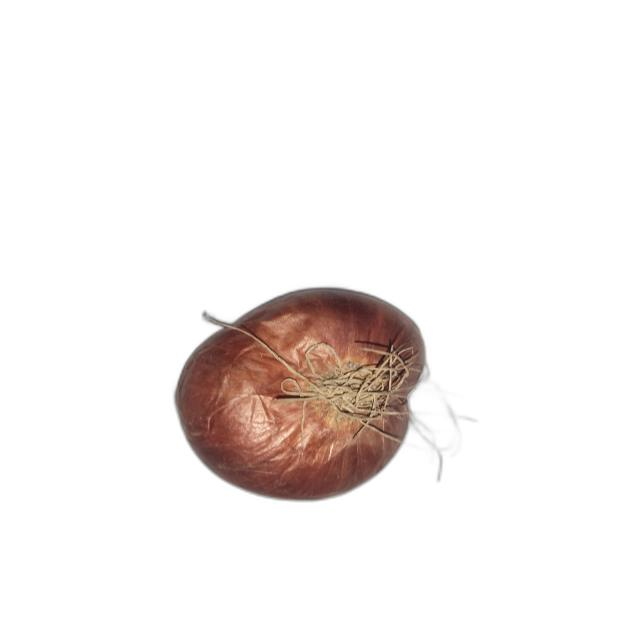onion: (174, 287, 430, 502)
